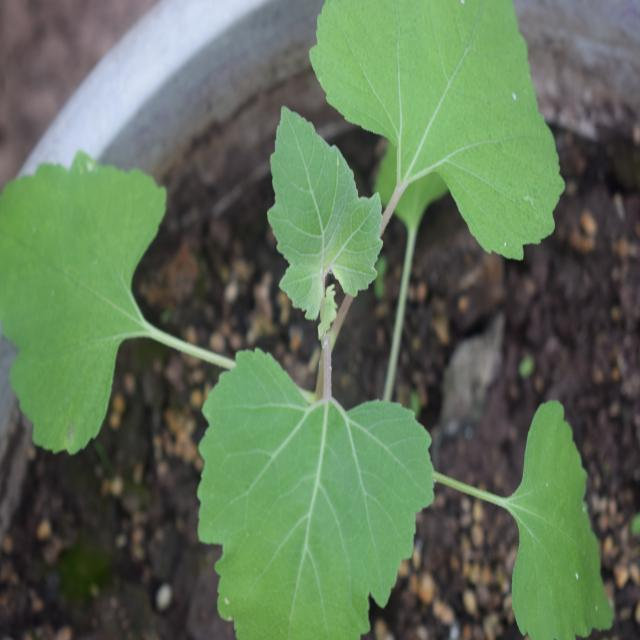cocklebur: (27, 9, 591, 616)
